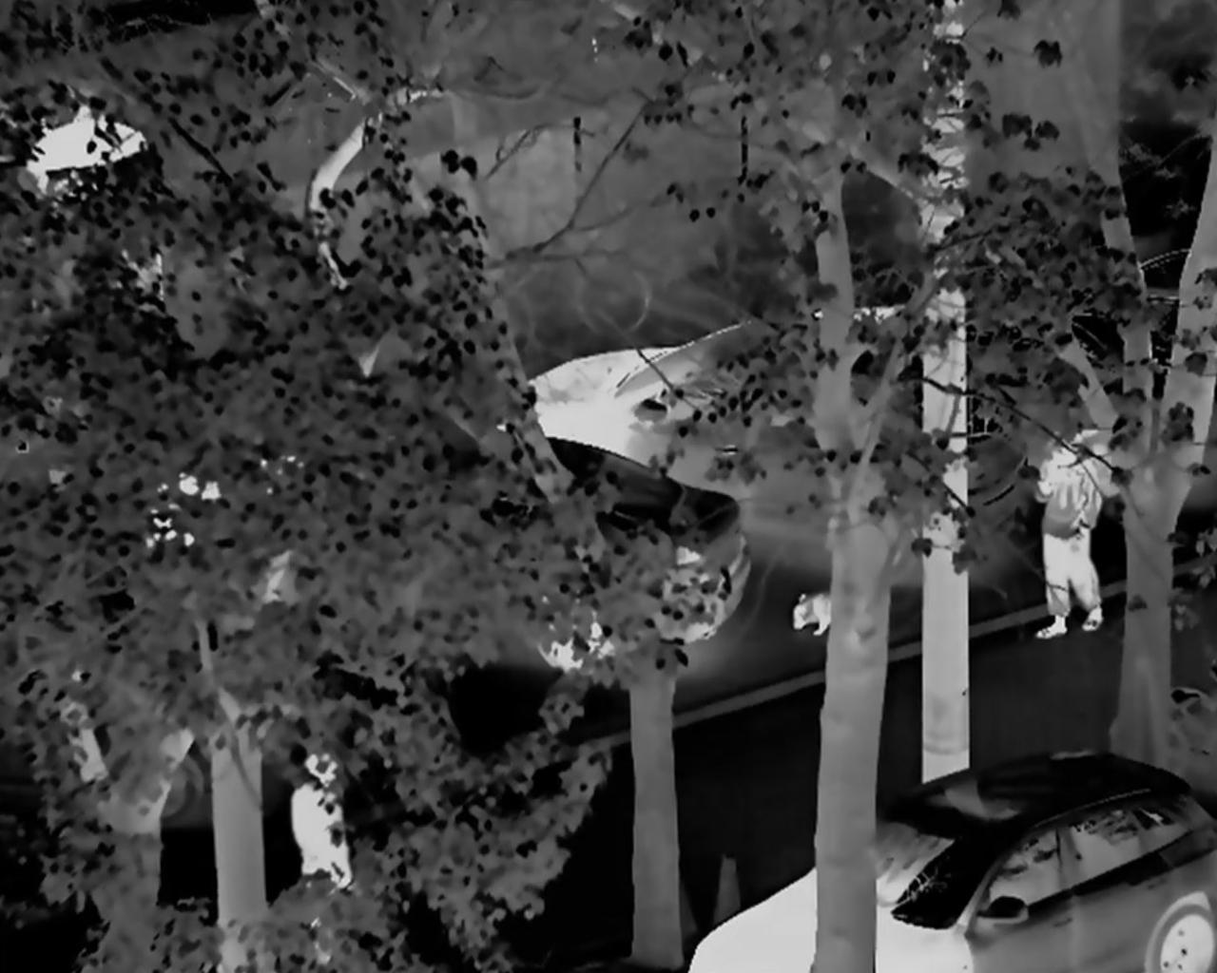person: (1021, 429, 1108, 635), (292, 748, 369, 920)
